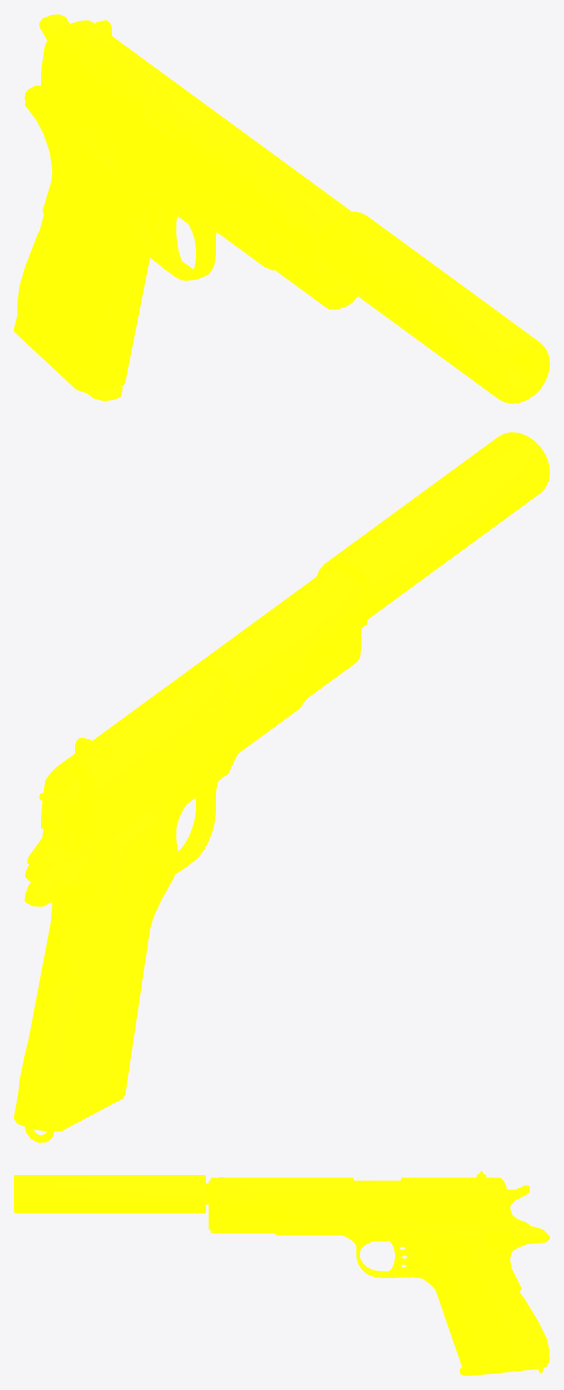
3 views of the same model, one above another, from view 1: azimuth 30°, elevation 25°; view 2: azimuth 150°, elevation 25°; view 3: azimuth 270°, elevation 25° (orthographic). The views are drawn at different scales.
Parts seen in each view (by area): view 1: barrel, receiver, _silencer, plastic, trigger; view 2: barrel, receiver, _silencer, plastic, trigger; view 3: barrel, receiver, plastic, _silencer, trigger, bolt.
Part boxes in pixels (x1,y1,x2,y2): barrel: (41,20,357,309); receiver: (14,85,274,393); _silencer: (316,211,549,403); plastic: (21,129,116,382); trigger: (39,14,354,305); barrel: (41,568,366,841); receiver: (14,686,305,1142); _silencer: (316,432,549,619); plastic: (70,813,166,1118); trigger: (39,669,228,866); barrel: (210,1171,509,1233); receiver: (275,1207,549,1375); plastic: (430,1230,532,1373); _silencer: (14,1175,205,1213); trigger: (206,1180,529,1273); bolt: (422,1251,505,1360).
Bounding box in the file's own units: 0.0592 × 0.2922 × 0.7156.
1 material, 1 textured.
